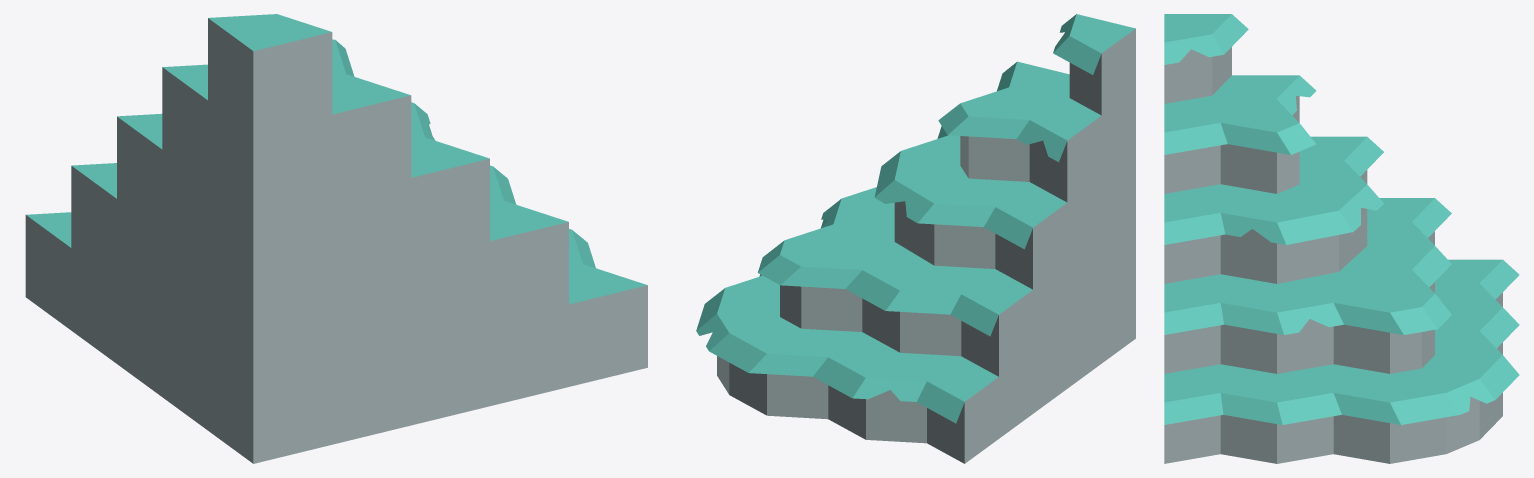
The model's file is cliff_stepsCorner_stone.glb.
The picture shows the model from 3 angles, left to right: view 1: azimuth 30°, elevation 25°; view 2: azimuth 150°, elevation 25°; view 3: azimuth 270°, elevation 25°; orthographic projection. The views are drawn at different scales.
Visible parts, largest first — view 1: cliff_stepsCorner_stone; view 2: cliff_stepsCorner_stone; view 3: cliff_stepsCorner_stone.
Boxes of the visible parts, left/top/right/bottom form: cliff_stepsCorner_stone: left=25, top=14, right=647, bottom=463; cliff_stepsCorner_stone: left=696, top=14, right=1135, bottom=463; cliff_stepsCorner_stone: left=1164, top=14, right=1519, bottom=463.
Size of the model in its own units: 1.05 by 1 by 1.05.
